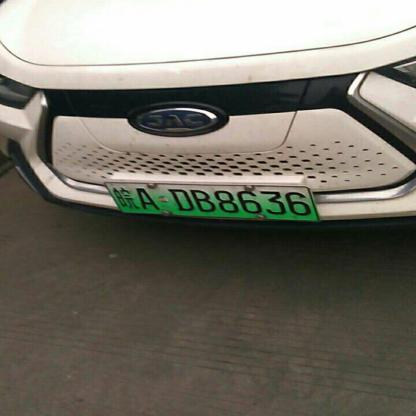lp: (106, 181, 318, 219)
